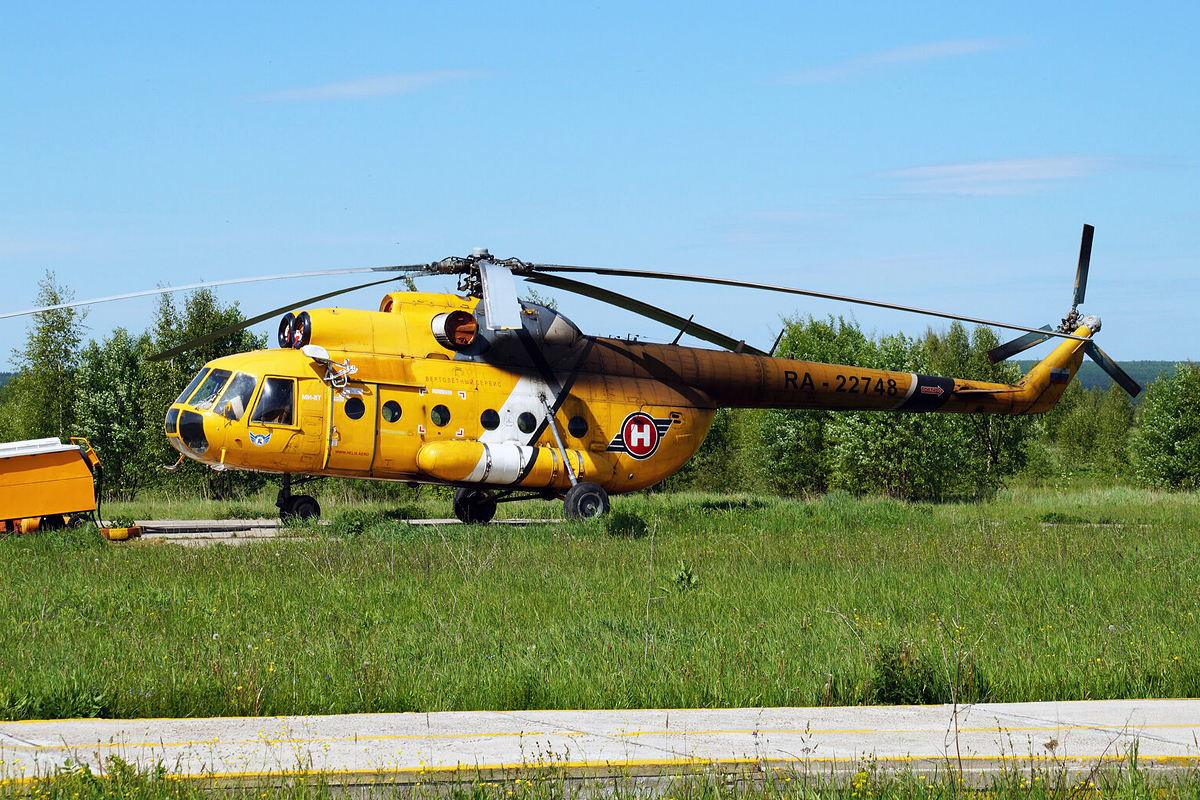number: (777, 364, 903, 403)
